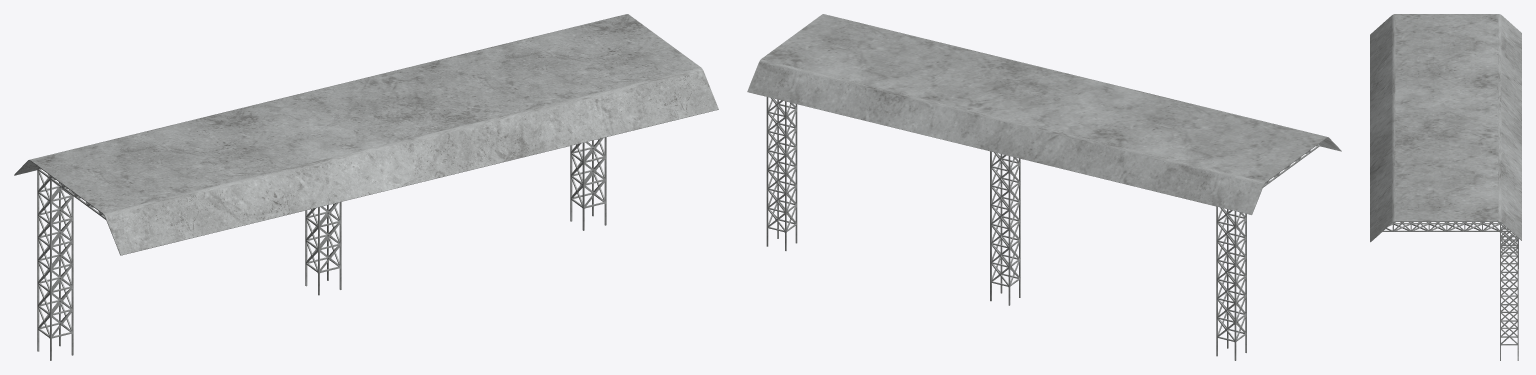
The model's file is StadiumSeat_Shad.fbx.
The picture shows the model from 3 angles, left to right: view 1: azimuth 30°, elevation 25°; view 2: azimuth 150°, elevation 25°; view 3: azimuth 270°, elevation 25°; orthographic projection. The views are drawn at different scales.
Parts seen in each view (by area): view 1: StadiumSeat_Shad; view 2: StadiumSeat_Shad; view 3: StadiumSeat_Shad.
Part boxes in pixels (box(x1,y1,x2,y2)): StadiumSeat_Shad: box(14, 14, 718, 360); StadiumSeat_Shad: box(747, 14, 1341, 360); StadiumSeat_Shad: box(1370, 14, 1521, 360).
Bounding box in the file's own units: 55 × 18.15 × 17.
1 material, 1 textured.
